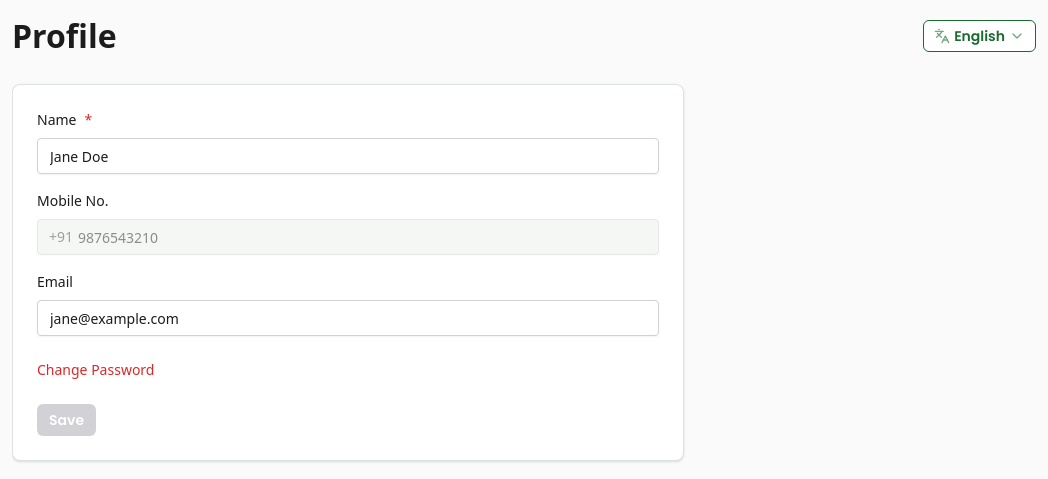
Scenario: ProfilePage › disables Save until a field is actually changed, then saves and re-disables it on success
Expected: the button "Save" is disabled, [37,404,96,436]
Replace the text in the field labelled "Name *" with "Jane Smith" at (348, 156), box [37,138,659,174]
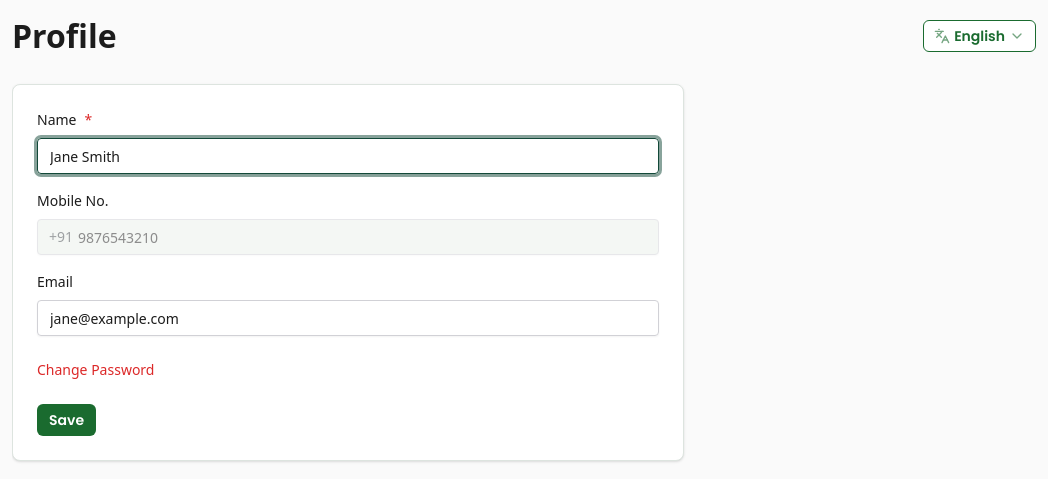
Expected: the button "Save" is enabled
Click the button "Save" at (66, 420), box [37,404,96,436]
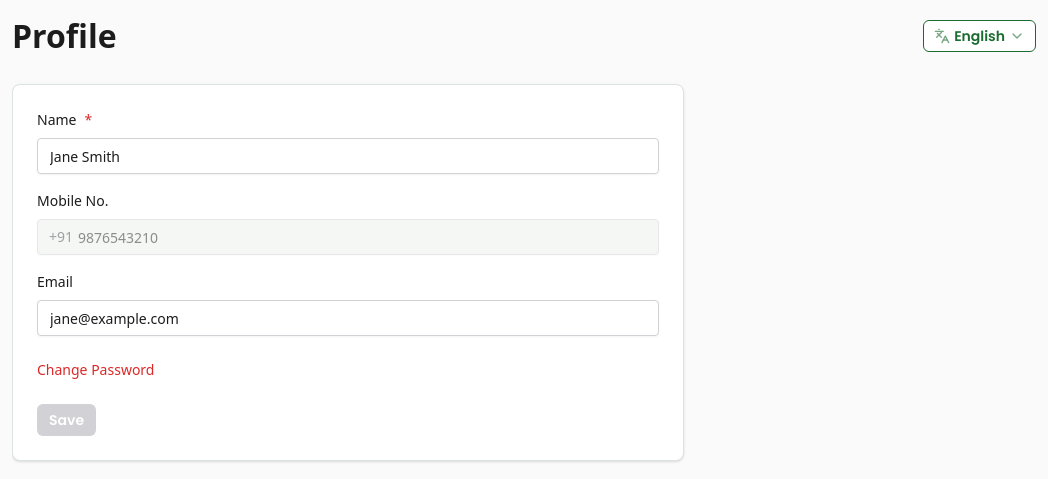
Expected: the button "Save" is disabled, [37,404,96,436]
